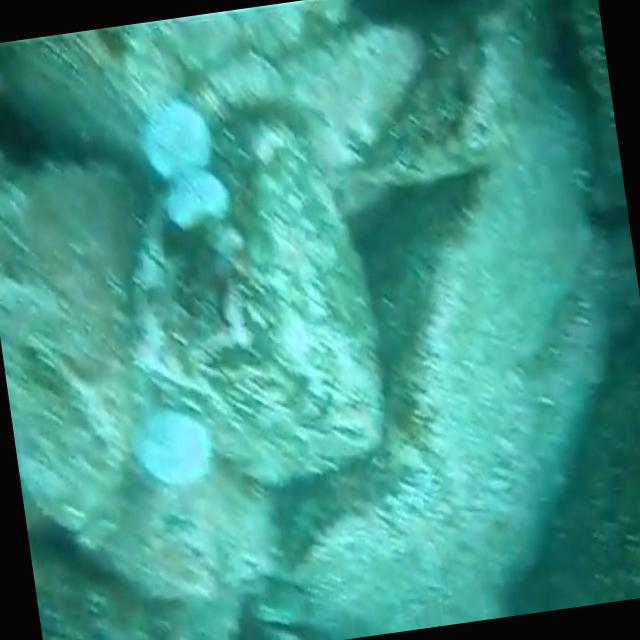Deniz Kestanesi: (125, 403, 228, 509), (124, 94, 222, 195), (162, 156, 242, 250)
